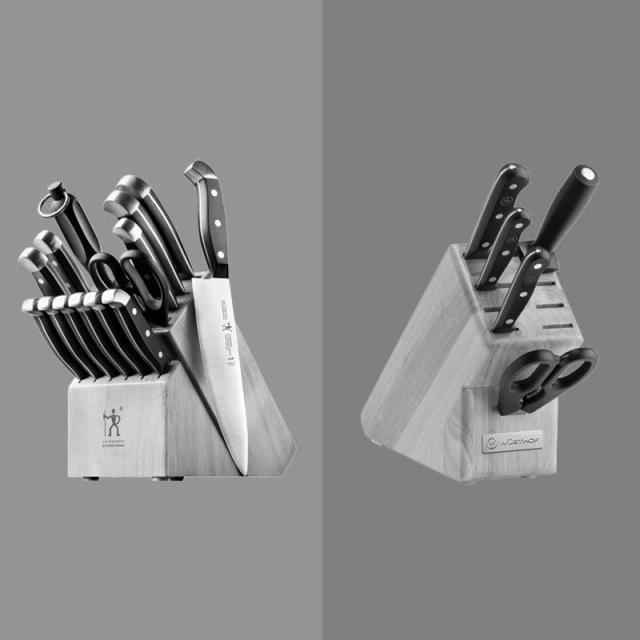Knife: (205, 152, 238, 482), (95, 171, 179, 300), (5, 175, 80, 267), (82, 283, 151, 370), (486, 255, 560, 330), (23, 291, 70, 391), (570, 148, 606, 228), (12, 238, 63, 290), (464, 212, 540, 242), (475, 155, 530, 196)
